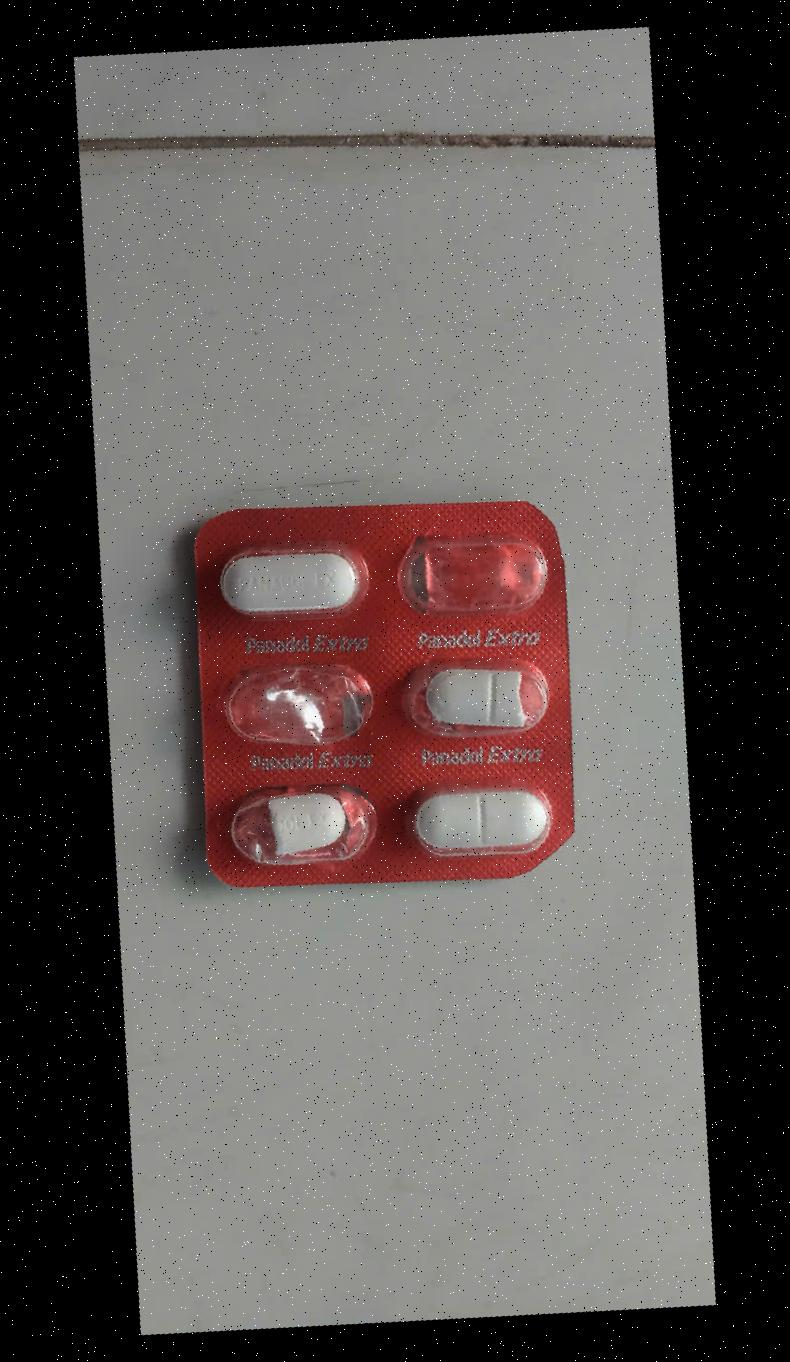Empty: (391, 528, 552, 618), (217, 660, 377, 750)
Full: (211, 534, 372, 624), (403, 771, 564, 861)
Partial: (405, 652, 566, 742), (222, 778, 382, 868)
